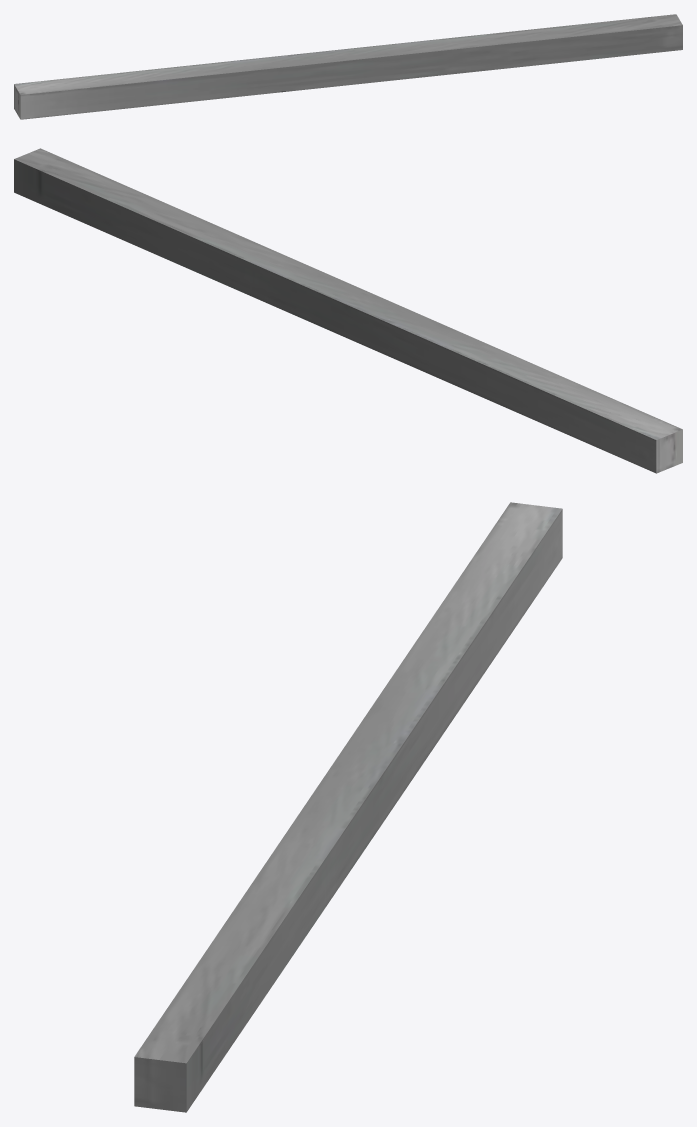
Rendered from frame__back_side_rail_1.glb.
The picture shows the model from 3 angles, top to bottom: view 1: azimuth 30°, elevation 25°; view 2: azimuth 150°, elevation 25°; view 3: azimuth 270°, elevation 25°; orthographic projection. The views are drawn at different scales.
Visible parts, largest first — view 1: geometry_0; view 2: geometry_0; view 3: geometry_0.
Part boxes in pixels (x1,y1,x2,y2): geometry_0: (14,14,682,119); geometry_0: (14,148,682,473); geometry_0: (134,502,562,1112).
Bounding box in the file's own units: 0.8294 × 0.034 × 0.2677.
Materials: 1 (1 with a texture image).
